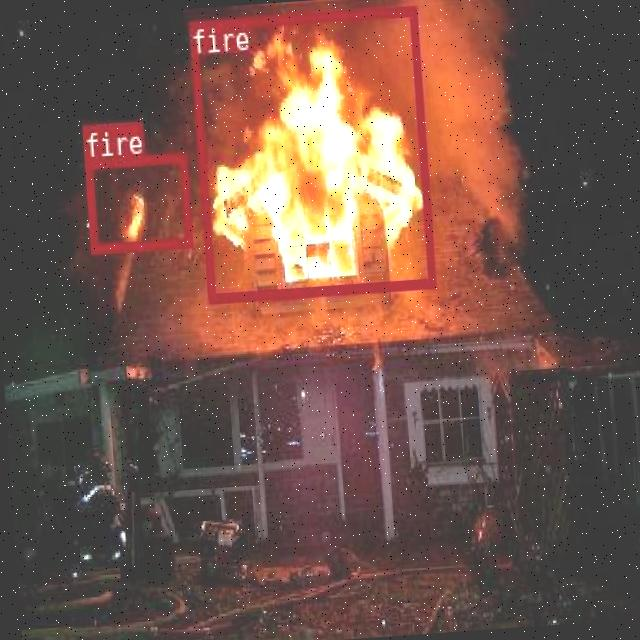fire: (188, 4, 434, 300), (83, 150, 190, 253)
